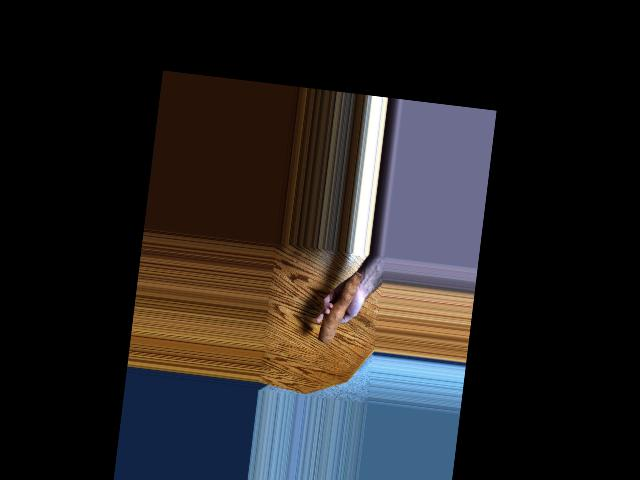sweet_potato: (323, 268, 363, 344)
